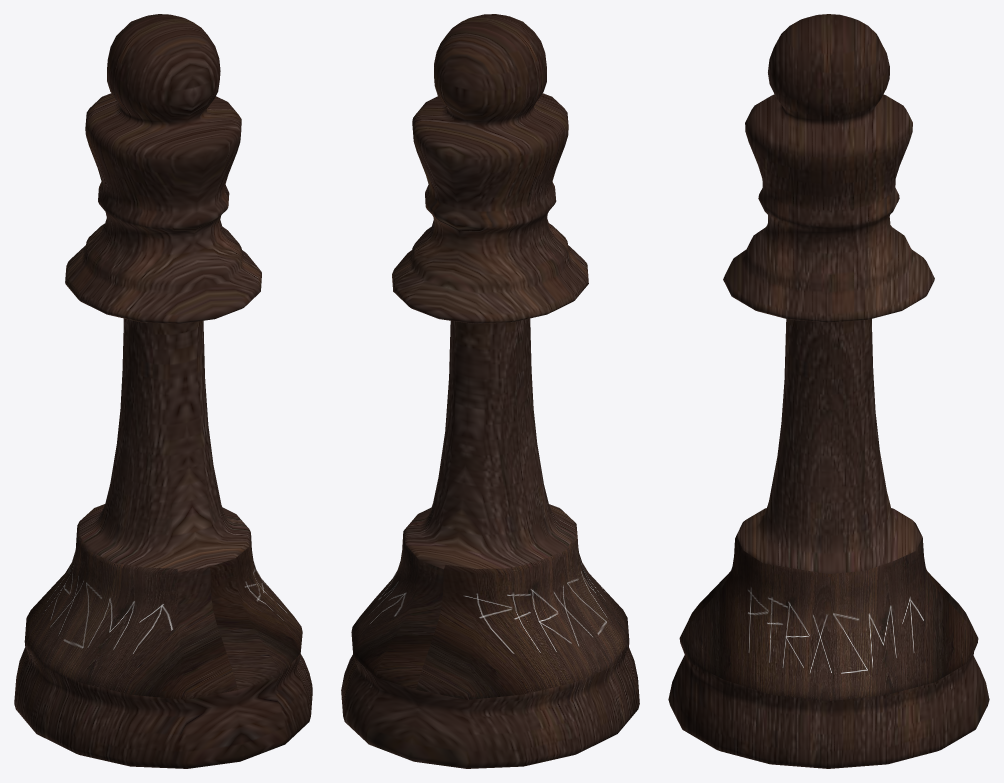
File: Reyna2.fbx
3 views of the same model, side by side, from view 1: azimuth 30°, elevation 25°; view 2: azimuth 150°, elevation 25°; view 3: azimuth 270°, elevation 25° (orthographic).
Parts seen in each view (by area): view 1: Reyna; view 2: Reyna; view 3: Reyna.
Boxes of the visible parts, box(x1,y1,x2,y2) form: Reyna: box(14, 14, 312, 768); Reyna: box(341, 14, 639, 768); Reyna: box(668, 14, 989, 768).
Bounding box in the file's own units: 41.68 × 106 × 44.88.
2 materials, 2 textured.
